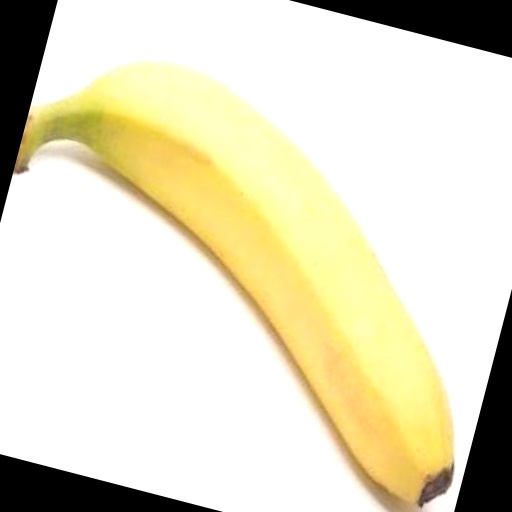fruit: (0, 55, 45, 281)
